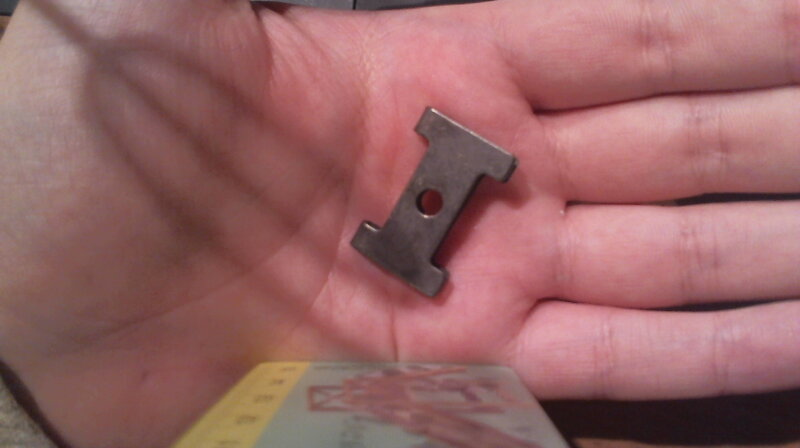O002: (338, 103, 525, 307)
